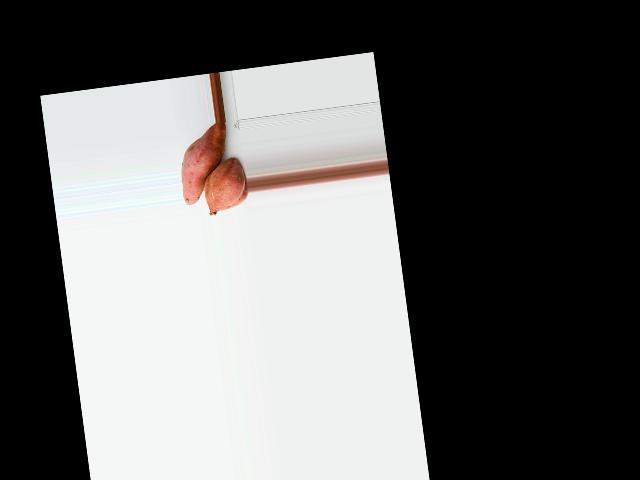sweet_potato: (204, 160, 245, 216)
